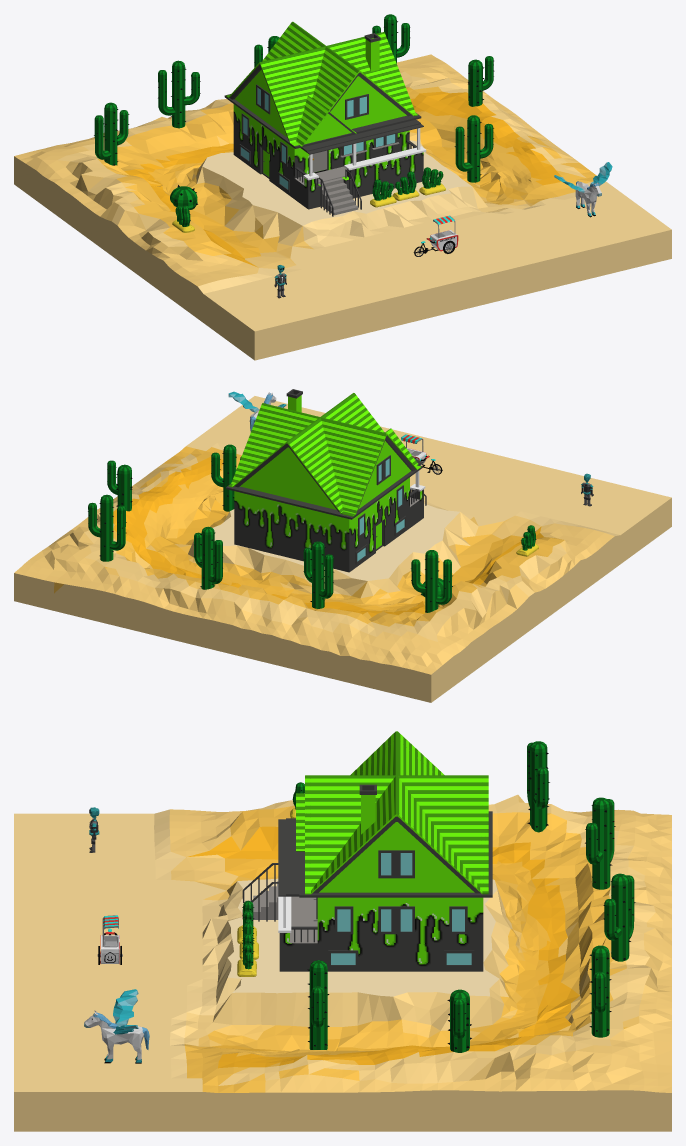
3 views of the same model, one above another, from view 1: azimuth 30°, elevation 25°; view 2: azimuth 150°, elevation 25°; view 3: azimuth 270°, elevation 25° (orthographic). The views are drawn at different scales.
Visible parts, largest first — view 1: Cube.001, Cube.754, Cylinder.037, Cylinder.044, Cylinder.045, ANIMAL_PEGASO, Cylinder.038, VEHICLES_SNOWBAL_BIKE, Cylinder.042, Cylinder.039, Cylinder.041, Sphere.023 (+1 smaller); view 2: Cube.001, Cube.754, Cylinder.042, Cylinder.045, Cylinder.044, Cylinder.043, Cylinder.037, Cylinder.038, VEHICLES_SNOWBAL_BIKE, ANIMAL_PEGASO; view 3: Cube.001, Cube.754, Cylinder.043, Cylinder.044, ANIMAL_PEGASO, Cylinder.045, Cylinder.042, Cylinder.037, Cylinder.038, VEHICLES_SNOWBAL_BIKE, Cylinder.041.
Boxes of the visible parts, left/top/right/bottom form: Cube.001: left=14, top=54, right=671, bottom=360; Cube.754: left=224, top=21, right=426, bottom=216; Cylinder.037: left=454, top=115, right=493, bottom=182; Cylinder.044: left=158, top=60, right=200, bottom=128; Cylinder.045: left=94, top=102, right=129, bottom=165; ANIMAL_PEGASO: left=554, top=162, right=612, bottom=217; Cylinder.038: left=468, top=56, right=494, bottom=106; VEHICLES_SNOWBAL_BIKE: left=413, top=215, right=458, bottom=256; Cylinder.042: left=372, top=14, right=410, bottom=63; Cylinder.039: left=370, top=179, right=396, bottom=207; Cylinder.041: left=419, top=167, right=445, bottom=195; Sphere.023: left=170, top=185, right=197, bottom=209; Cube.001: left=14, top=396, right=671, bottom=702; Cube.754: left=226, top=389, right=426, bottom=572; Cylinder.042: left=88, top=494, right=126, bottom=561; Cylinder.045: left=411, top=550, right=452, bottom=612; Cylinder.044: left=303, top=541, right=333, bottom=608; Cylinder.043: left=194, top=526, right=222, bottom=589; Cylinder.037: left=211, top=444, right=241, bottom=511; Cylinder.038: left=107, top=460, right=132, bottom=511; VEHICLES_SNOWBAL_BIKE: left=401, top=434, right=442, bottom=474; ANIMAL_PEGASO: left=228, top=391, right=286, bottom=432; Cube.001: left=14, top=794, right=671, bottom=1131; Cube.754: left=242, top=731, right=492, bottom=971; Cylinder.043: left=603, top=873, right=635, bottom=961; Cylinder.044: left=585, top=797, right=615, bottom=889; ANIMAL_PEGASO: left=84, top=989, right=149, bottom=1063; Cylinder.045: left=527, top=741, right=549, bottom=832; Cylinder.042: left=589, top=945, right=611, bottom=1037; Cylinder.037: left=307, top=960, right=329, bottom=1049; Cylinder.038: left=447, top=989, right=471, bottom=1052; VEHICLES_SNOWBAL_BIKE: left=97, top=915, right=122, bottom=964; Cylinder.041: left=237, top=933, right=256, bottom=976.
Size of the model in its own units: 4002 by 1599 by 4001.
Materials: 33 (3 with a texture image).
